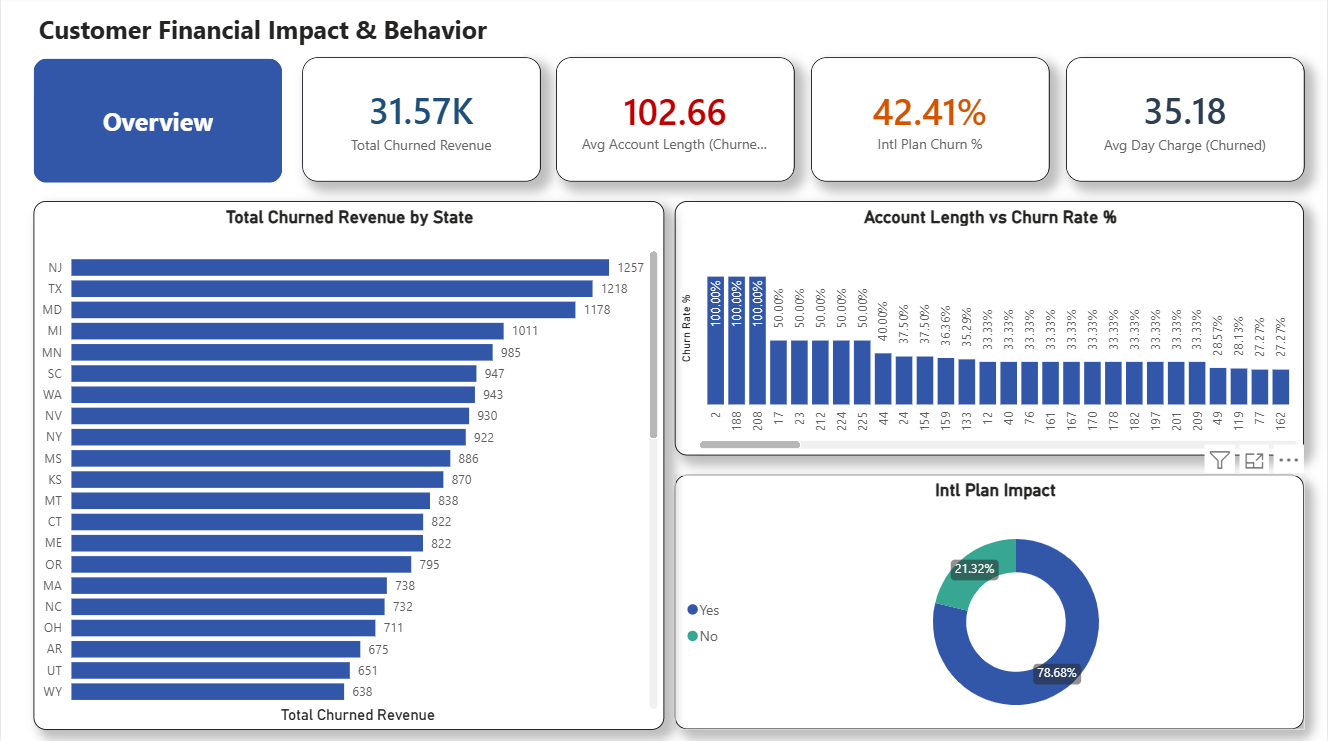

The dashboard page shown, as its layout file describes it:
{"tool":"powerbi","page":{"name":"Customer Behavior & Financials","canvas":[1280,720],"ordinal":1},"visuals":[{"type":"cardVisual","fields":{"Data":["telecom_churn_master.Total Churned Revenue"]},"box":[290.3,59.4,230,120],"z":0},{"type":"cardVisual","fields":{"Data":["telecom_churn_master.Avg Account Length (Churned)"]},"box":[536,59.4,230,120],"z":1000},{"type":"cardVisual","fields":{"Data":["telecom_churn_master.Intl Plan Churn %"]},"box":[781.7,59.4,230,120],"z":2000},{"type":"clusteredColumnChart","title":"Account Length vs Churn Rate %","fields":{"Category":["telecom_churn_master.Account length"],"Y":["telecom_churn_master.Churn Rate %"]},"box":[650.6,197.5,607.6,245.6],"z":3000},{"type":"donutChart","title":"Intl Plan Impact","fields":{"Category":["telecom_churn_master.International plan"],"Y":["telecom_churn_master.Churn Rate %"]},"box":[650.6,462,607.6,245.6],"z":4000},{"type":"cardVisual","fields":{"Data":["telecom_churn_master.Avg Day Charge (Churned)"]},"box":[1027.4,59.4,230,120],"z":5000},{"type":"textbox","box":[31.4,11.4,472.9,47.1],"z":7000},{"type":"actionButton","box":[31.4,60,240,120],"z":9000},{"type":"clusteredBarChart","title":"Total Churned Revenue by State","fields":{"Category":["telecom_churn_master.State"],"Y":["telecom_churn_master.Total Churned Revenue"]},"box":[31.6,197.5,608.9,510.1],"z":9001}]}

Visuals, with their boxes in screenshot pixels (x1, y1, x2, y2), scaled from the page's 1280x720 canvas onto the 1328x741 screenshot:
cardVisual - telecom_churn_master.Total Churned Revenue: 301 61 540 185
cardVisual - telecom_churn_master.Avg Account Length (Churned): 556 61 795 185
cardVisual - telecom_churn_master.Intl Plan Churn %: 811 61 1050 185
"Account Length vs Churn Rate %" clusteredColumnChart: 675 203 1305 456
"Intl Plan Impact" donutChart: 675 475 1305 728
cardVisual - telecom_churn_master.Avg Day Charge (Churned): 1066 61 1305 185
textbox: 33 12 523 60
actionButton: 33 62 282 185
"Total Churned Revenue by State" clusteredBarChart: 33 203 665 728
